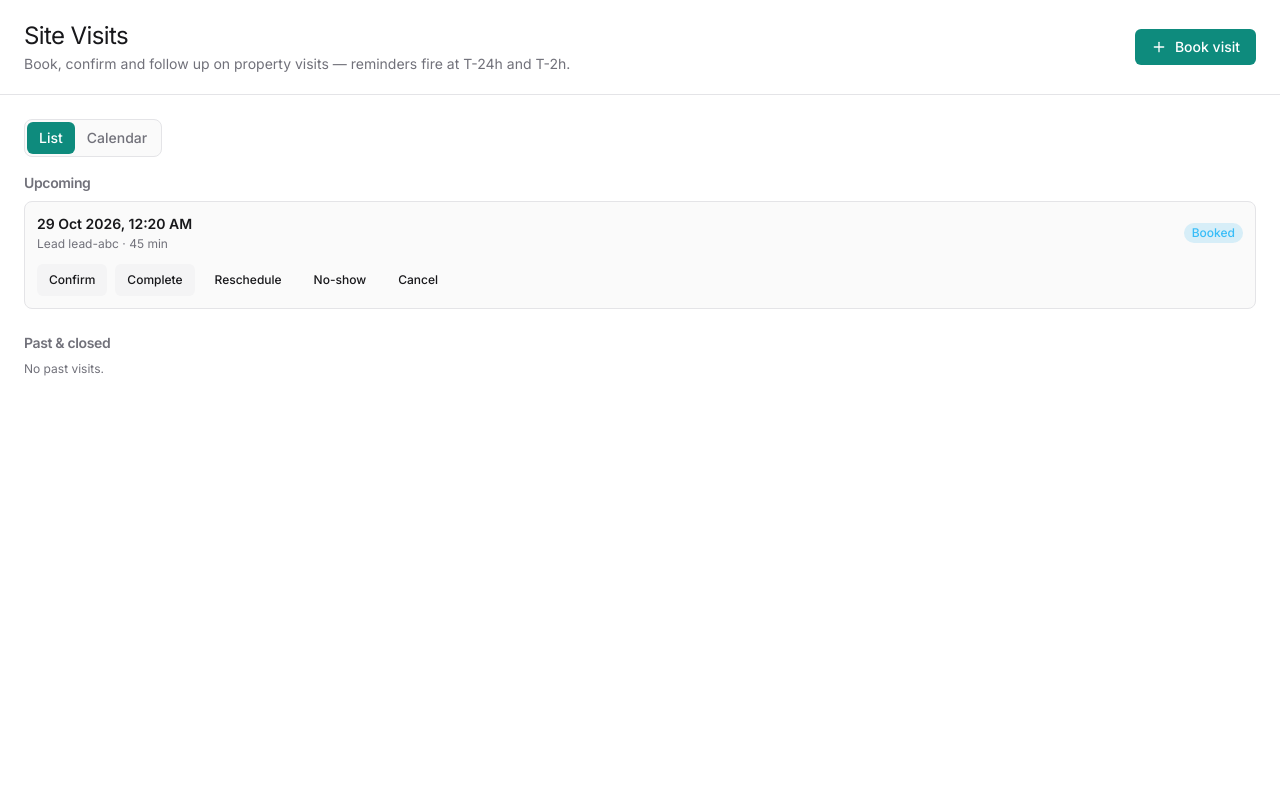
Test: SiteVisitsPage calendar view › switches to a month grid with the weekday header
Click the button "Calendar".
click(117, 138)  # box [75,122,159,154]
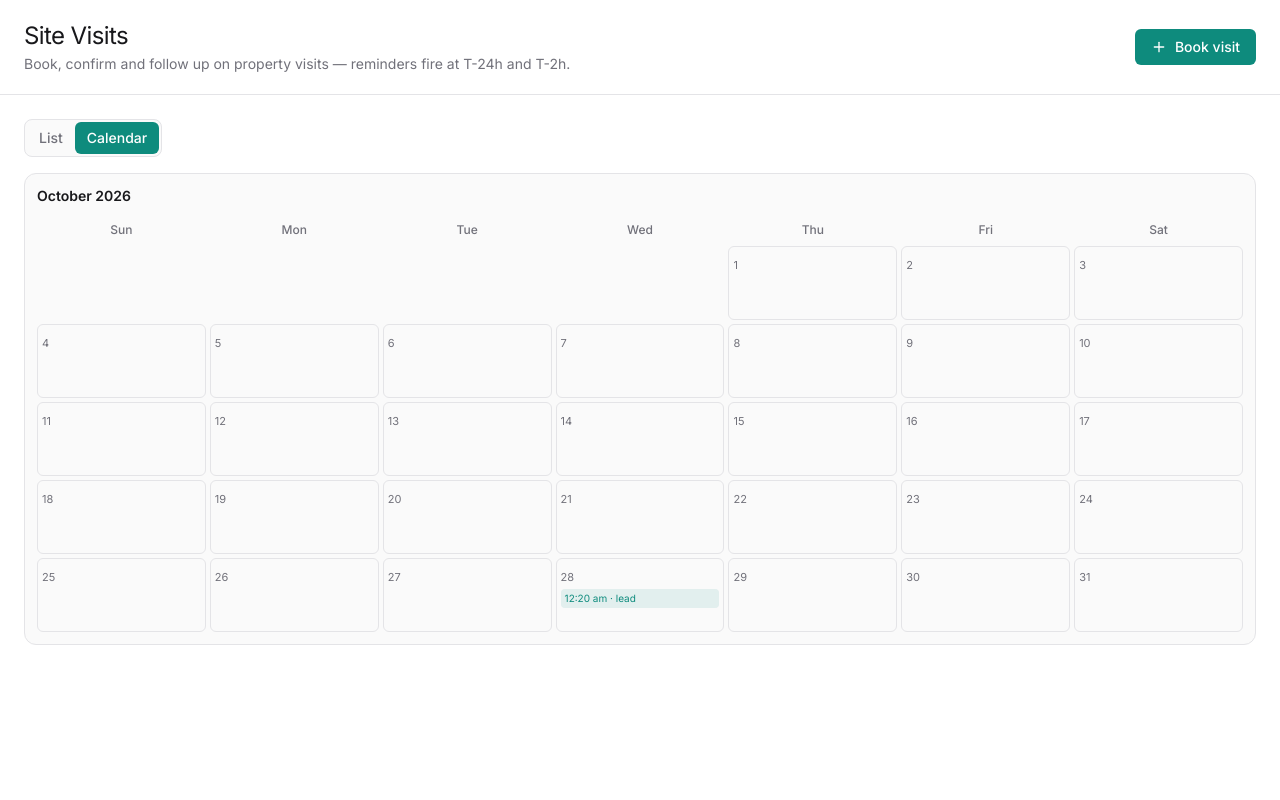
Result: the text "Sun" is shown at [110,222,132,237]
Result: the text "Sat" is shown at [1149,222,1168,237]
